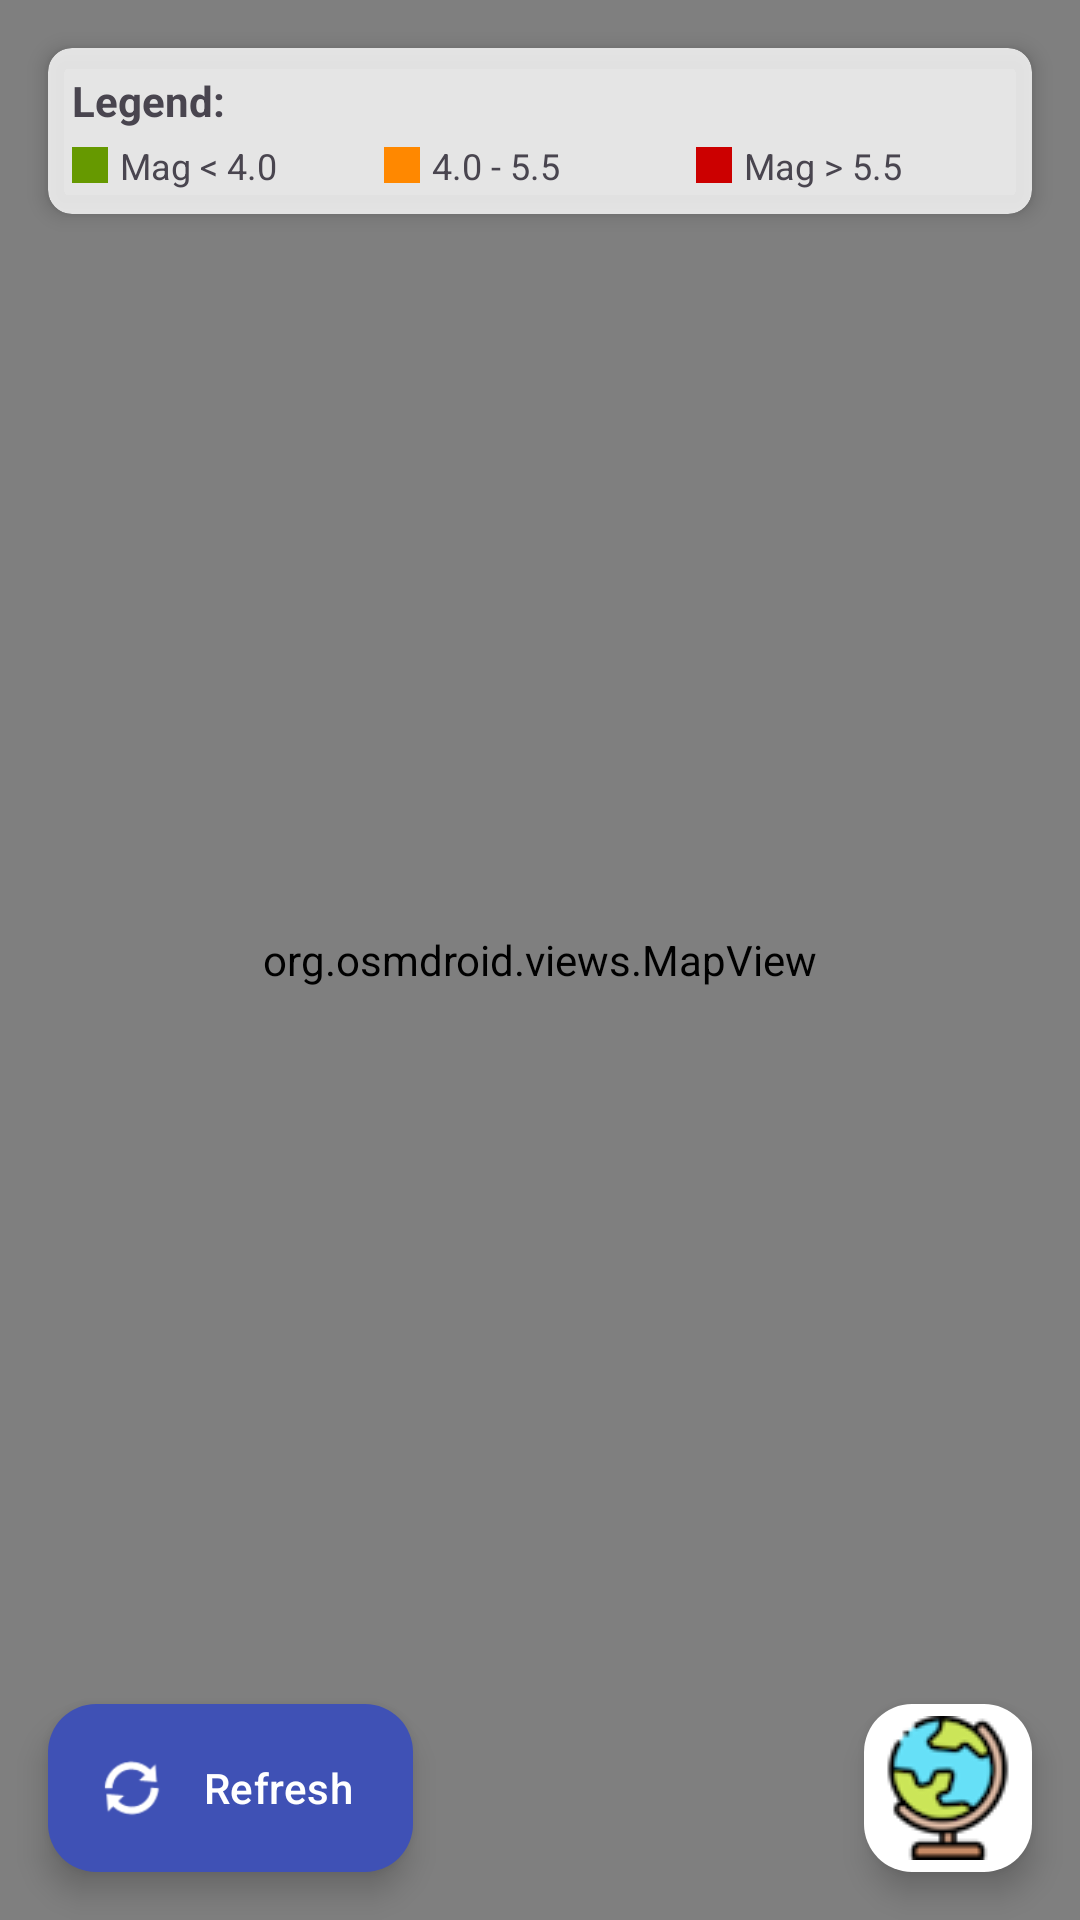

Named icons in this screenshot (1080×1920) and their bounding boxes, (x1, y1, x2, y2):
globus: (864, 1704, 1032, 1872)
